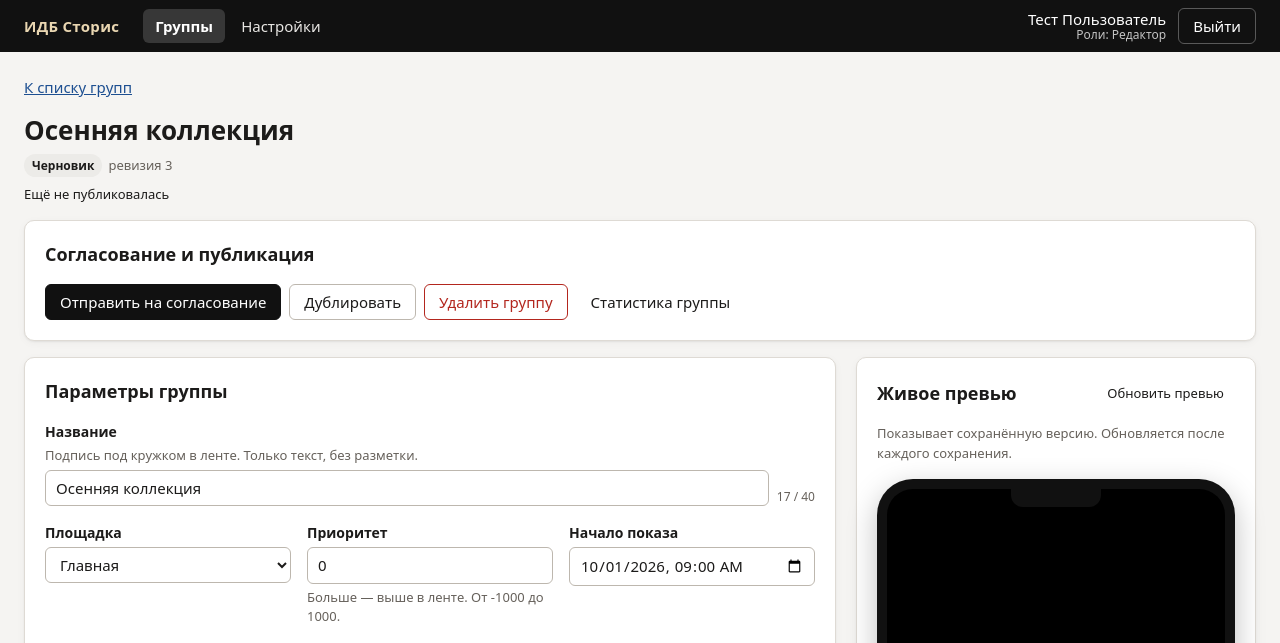
Редактор группы › сохраняет только изменённые поля с ревизией; время — в UTC
The width and height of the screenshot is (1280, 643).
Clear the field labelled "Название": (407, 488) [45,470,769,506]
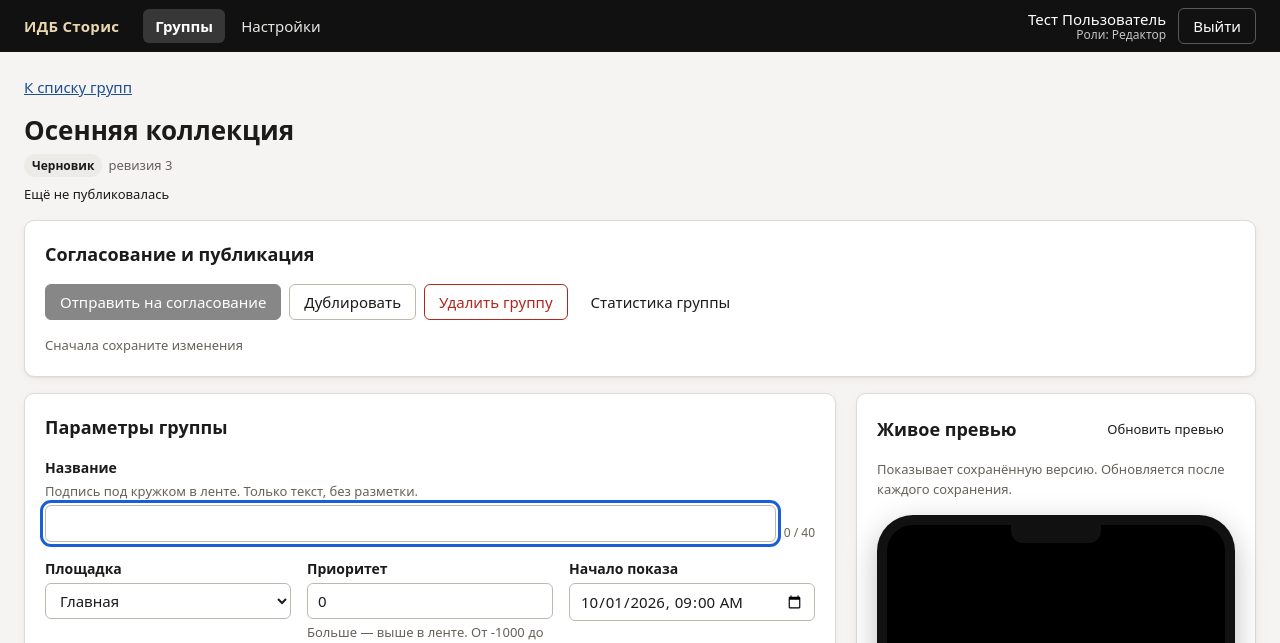
In the field labelled "Название": (410, 524) [45,505,776,542], type "Новое название"
(page scrolled)
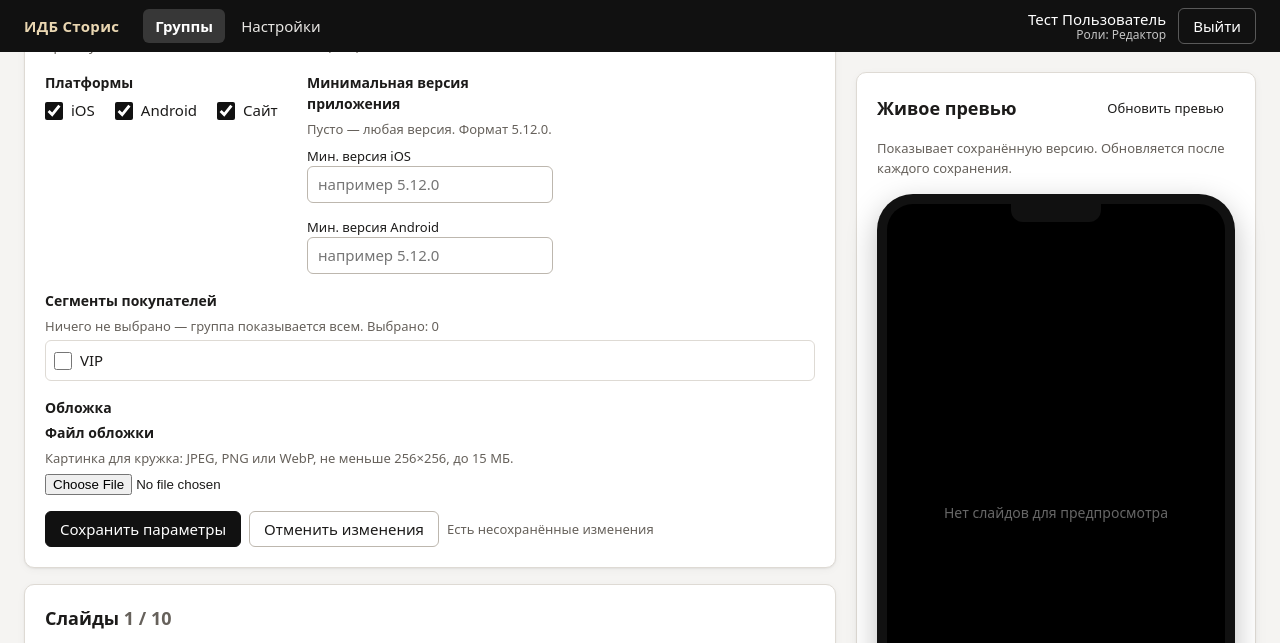
Click the checkbox labelled "VIP": (63, 361) [54,352,72,370]
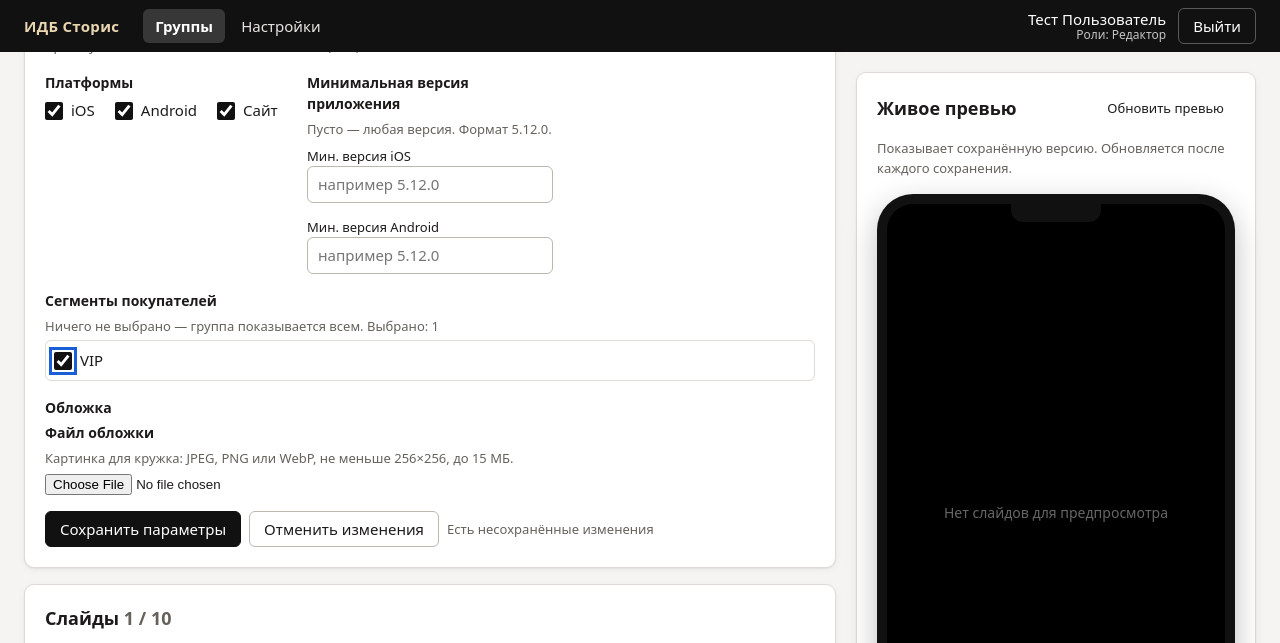
Click the button "Сохранить параметры": (143, 529) [45,511,241,547]
(page scrolled)
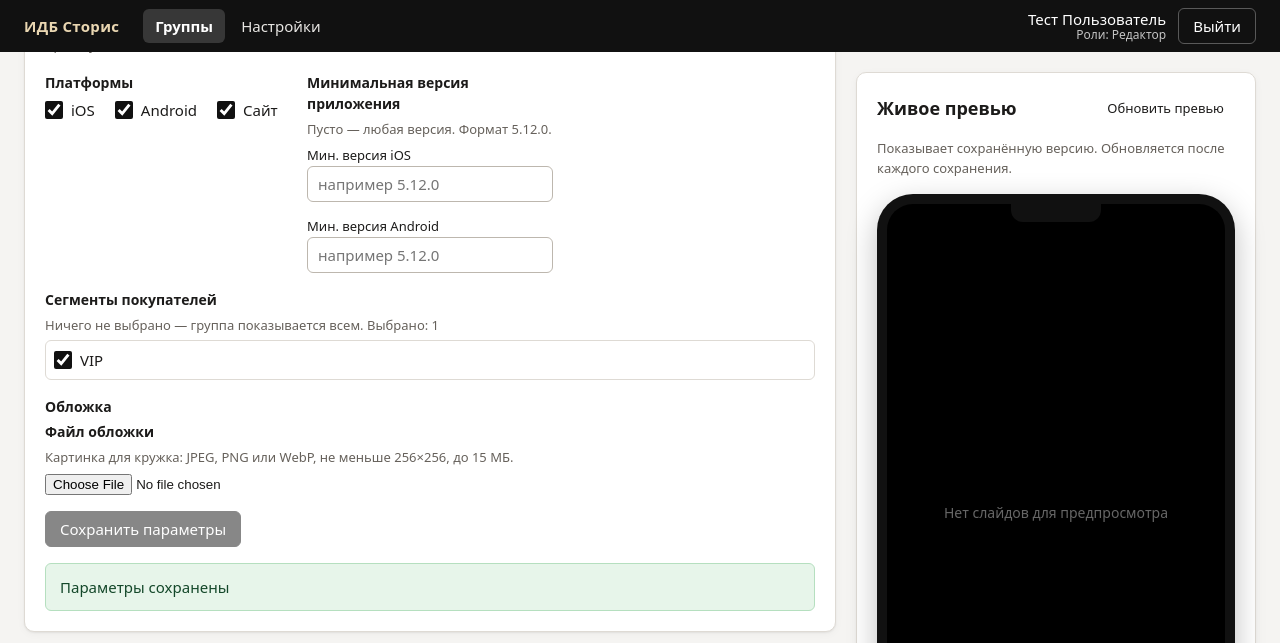
Check: the text "Параметры сохранены" is shown, box [45,563,815,611]
